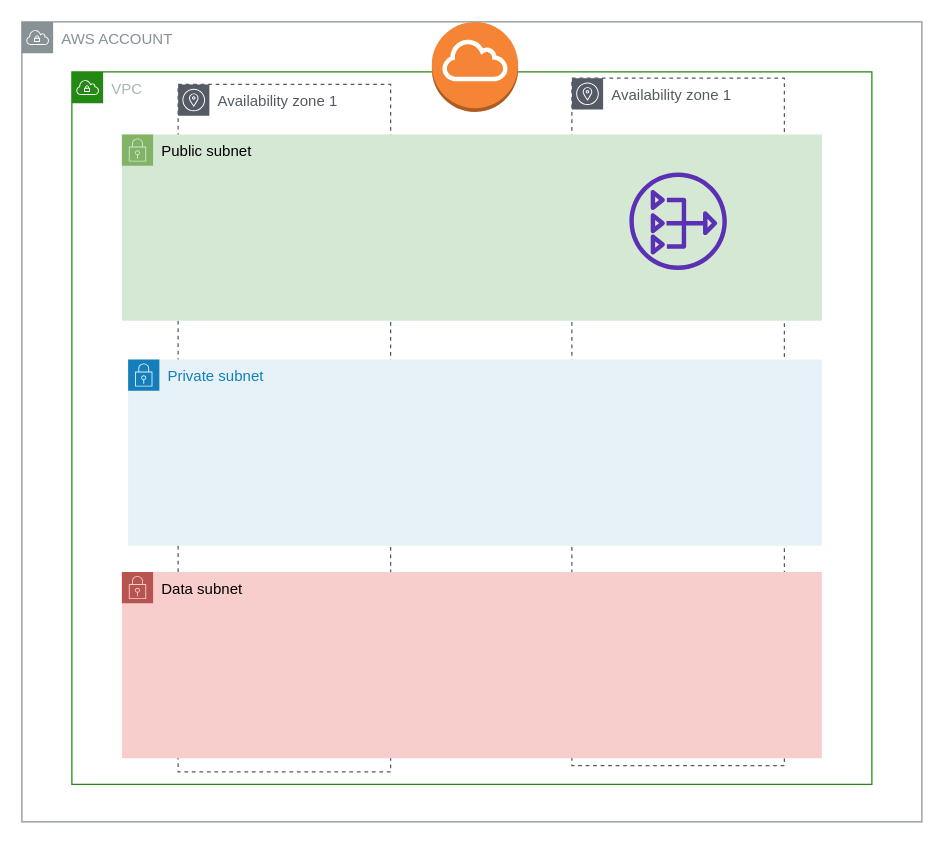
Image size: 944x844. Some labels were removed from this diagram. The shapes that lost their labels are listed below. From the top down, each one's centre as x and y in pixels, then its label:
At (x=474, y=66): "internet gateway".
At (x=677, y=220): "NAT Gateway".
